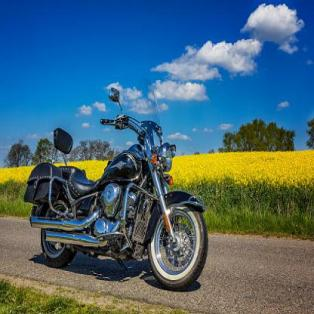Motocicleta: (19, 78, 210, 294)
